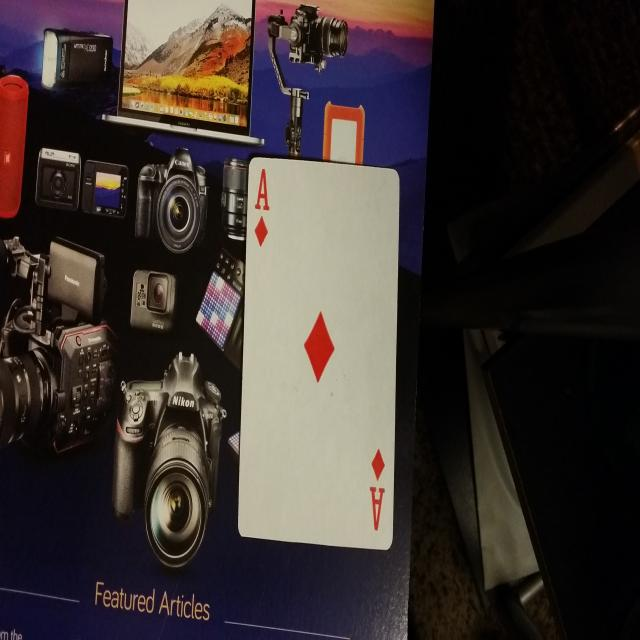Ad: (357, 432, 394, 542), (250, 158, 280, 263)
